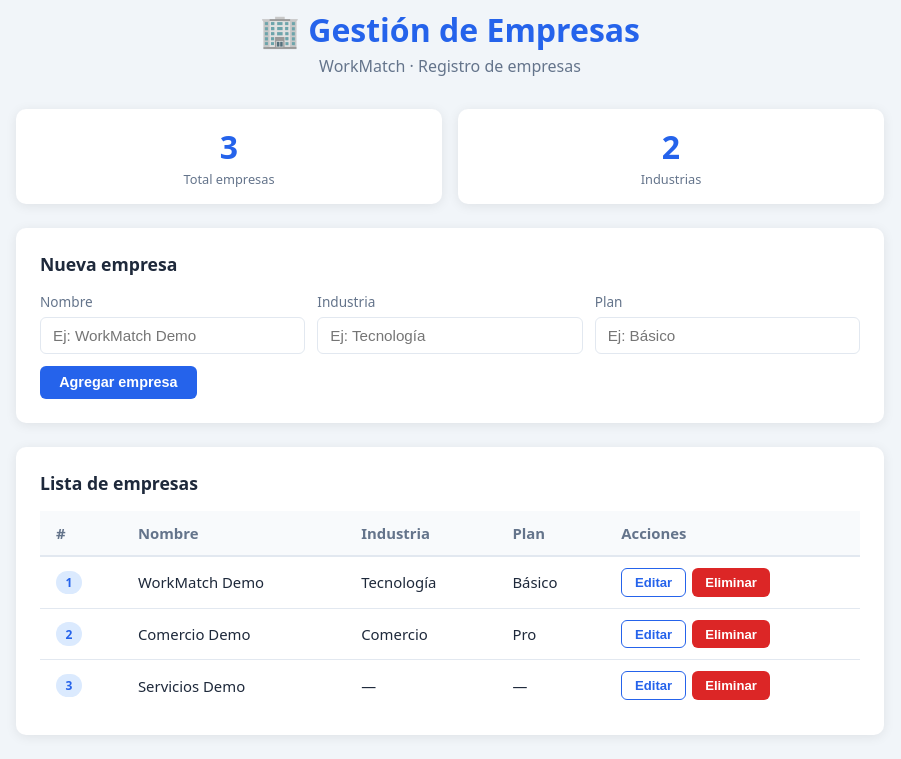
Test: elimina una empresa con confirmación
Expected: the text "WorkMatch Demo" is shown, x1=122 y1=556 x2=345 y2=608
Click the button titled "Eliminar" in the row of "WorkMatch Demo".
click(731, 582)  # box x1=692 y1=568 x2=770 y2=597
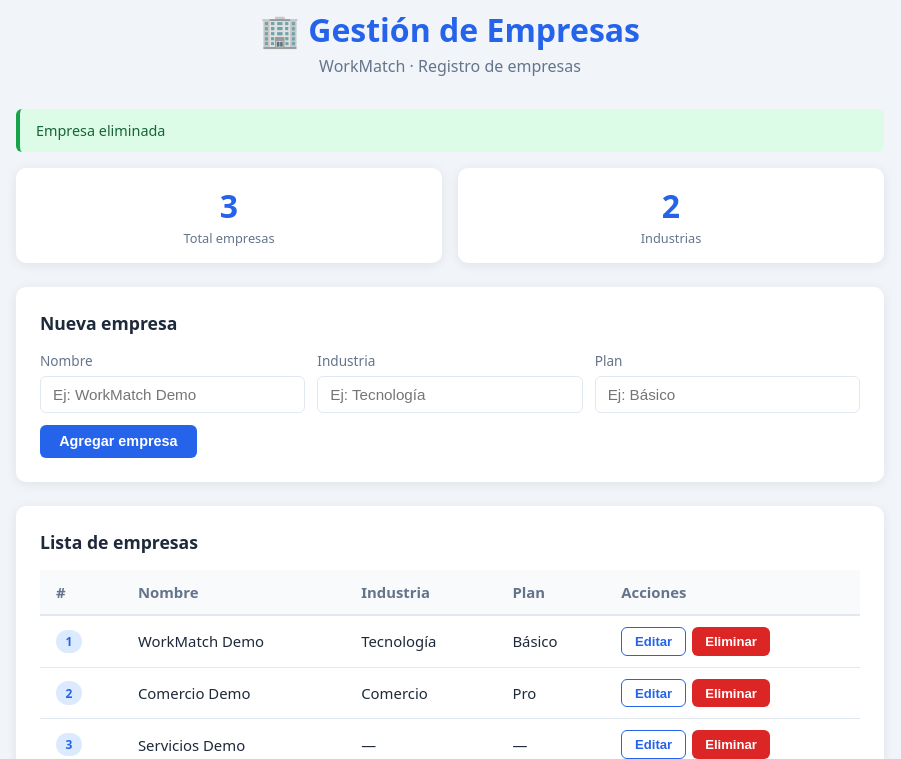
Result: the message reads "Empresa eliminada" at x1=36 y1=121 x2=165 y2=140
